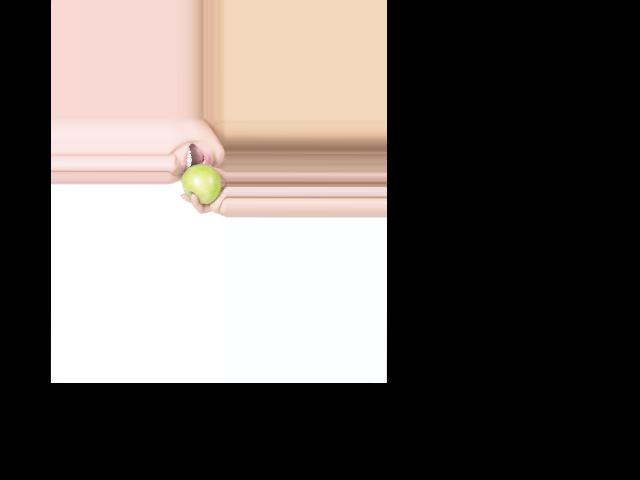apple: (181, 162, 220, 205)
